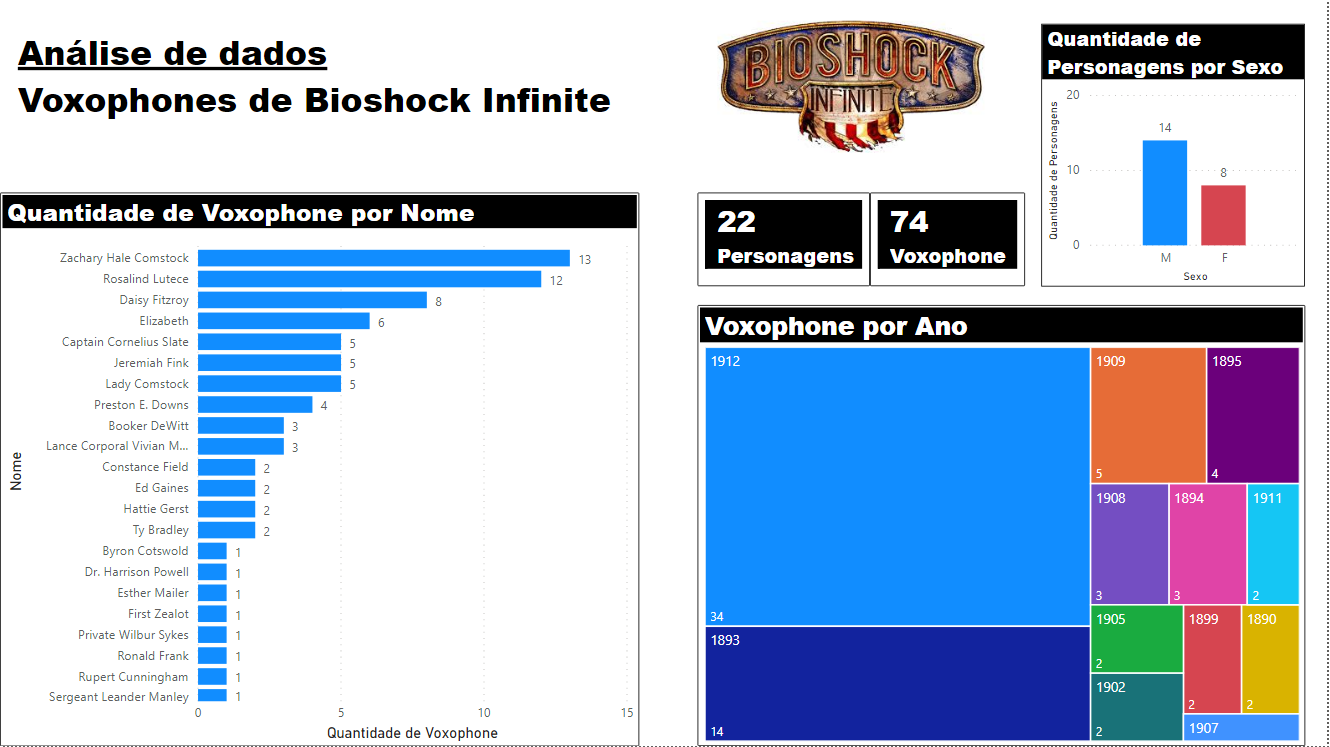

This screenshot's page, from the dashboard's own definition file:
{"tool":"powerbi","page":{"name":"Estatisticas","canvas":[1280,720],"ordinal":1},"visuals":[{"type":"columnChart","fields":{"Category":["Personagens.Sexo"],"Y":["Bioshock.Medida"]},"box":[1004.6,22.9,254.5,253.3],"z":0},{"type":"treemap","fields":{"Values":["Bioshock.Voxophone por ano"],"Group":["Bioshock.Ano"]},"box":[673,294.3,586.1,425.7],"z":1000},{"type":"barChart","fields":{"Category":["Personagens.Nome"],"Y":["Bioshock.Voxophone por Foto"]},"box":[0,185.4,616.7,534.2],"z":2000},{"type":"textbox","box":[12.1,22.9,961.2,144.7],"z":3000},{"type":"multiRowCard","fields":{"Values":["Bioshock.Voxophone"]},"box":[839.4,185.7,149.5,90.5],"z":4000},{"type":"multiRowCard","fields":{"Values":["Bioshock.Personagens"]},"box":[673,185.7,166.4,90.5],"z":5000},{"type":"image","box":[687.4,0,267.7,167.6],"z":6000}]}

Visuals, with their boxes in screenshot pixels (x1, y1, x2, y2), scaled from the page's 1280x720 canvas onto the 1330x747 screenshot:
columnChart - Personagens.Sexo x Bioshock.Medida: select_region(1044, 24, 1308, 287)
treemap - Bioshock.Voxophone por ano x Bioshock.Ano: select_region(699, 305, 1308, 746)
barChart - Personagens.Nome x Bioshock.Voxophone por Foto: select_region(0, 192, 641, 746)
textbox: select_region(13, 24, 1011, 174)
multiRowCard - Bioshock.Voxophone: select_region(872, 193, 1028, 287)
multiRowCard - Bioshock.Personagens: select_region(699, 193, 872, 287)
image: select_region(714, 0, 992, 174)
